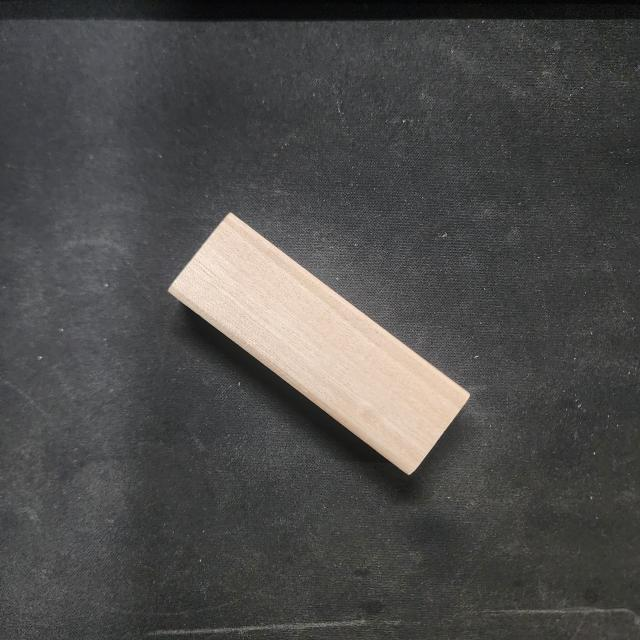wood: (162, 209, 473, 480)
